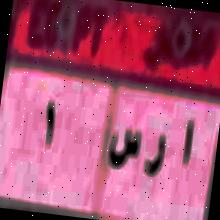1: (38, 94, 64, 154)
alif: (174, 115, 198, 181)
raa: (138, 125, 170, 193)
seen: (105, 122, 142, 172)
